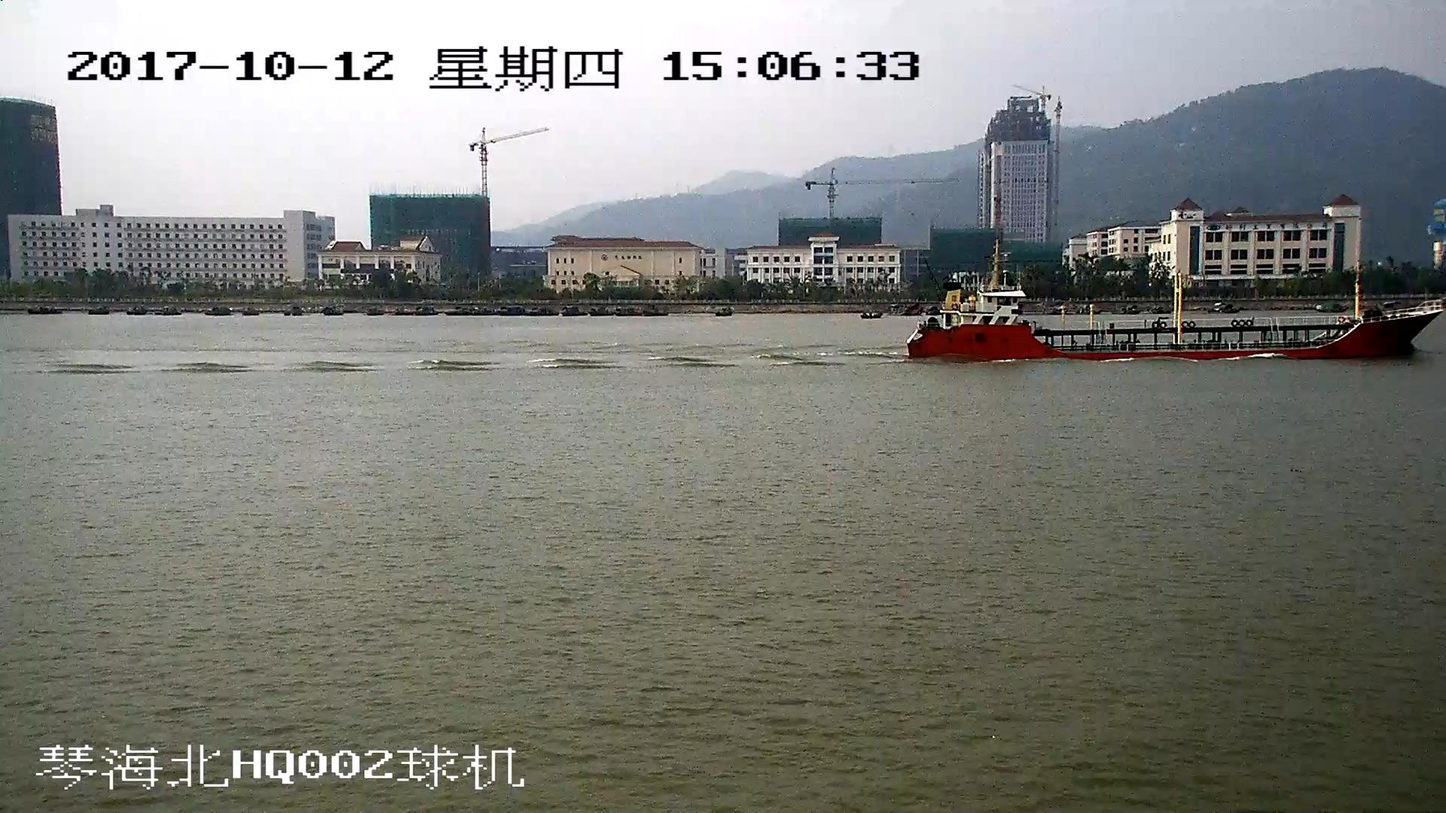general cargo ship: (905, 250, 1445, 364)
